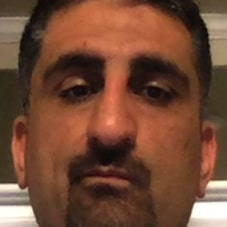drowsy: (41, 48, 191, 199)
